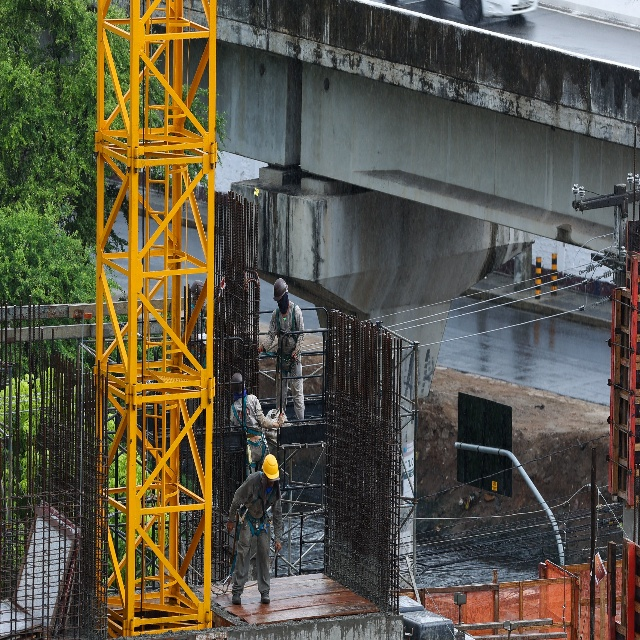Guantes: (277, 411, 285, 427), (291, 350, 297, 361), (258, 343, 263, 353)
Sin_guantes: (226, 518, 233, 535), (275, 541, 282, 552)
